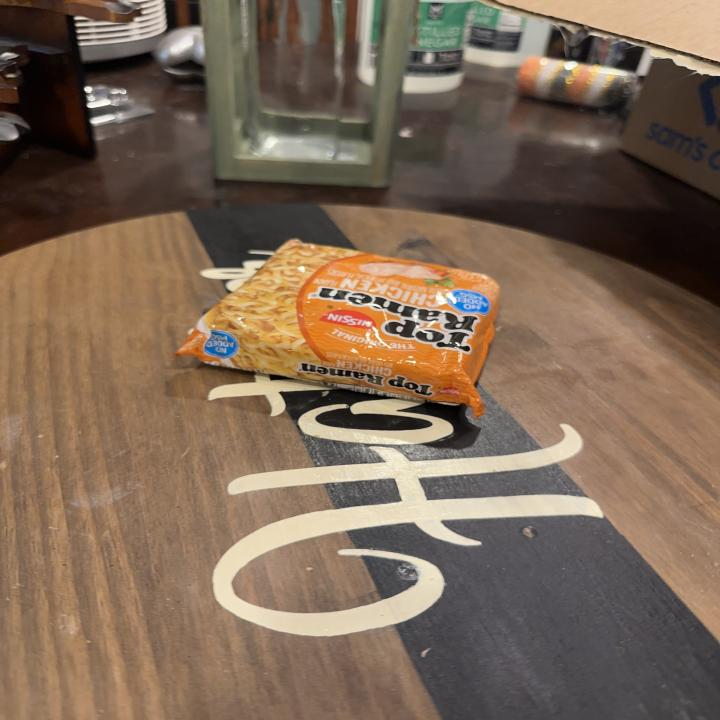Ramen: (168, 236, 501, 424)
